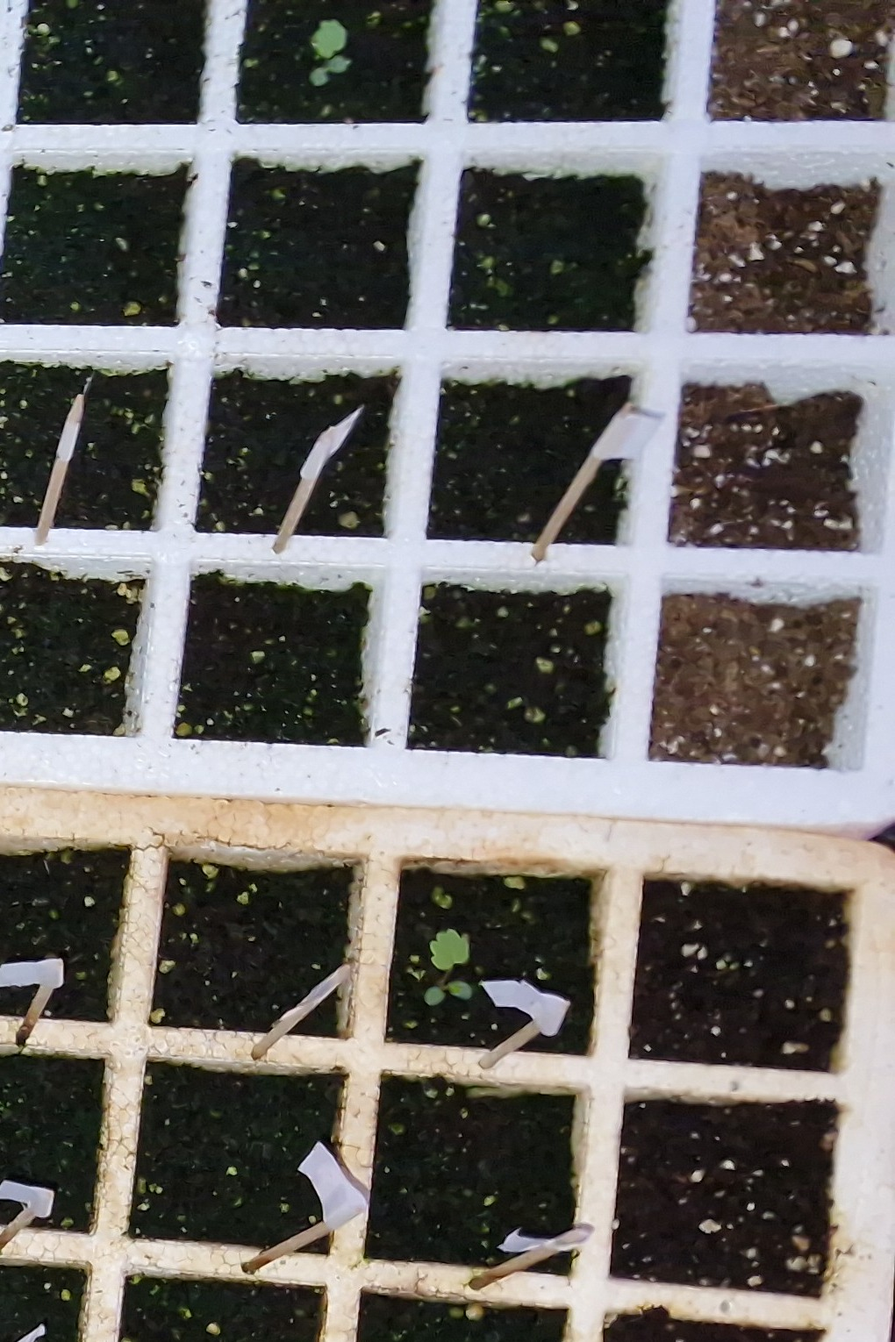Folha: (431, 929, 468, 969), (449, 981, 471, 999), (424, 987, 444, 1006)
Germinacao: (425, 929, 472, 1006)
